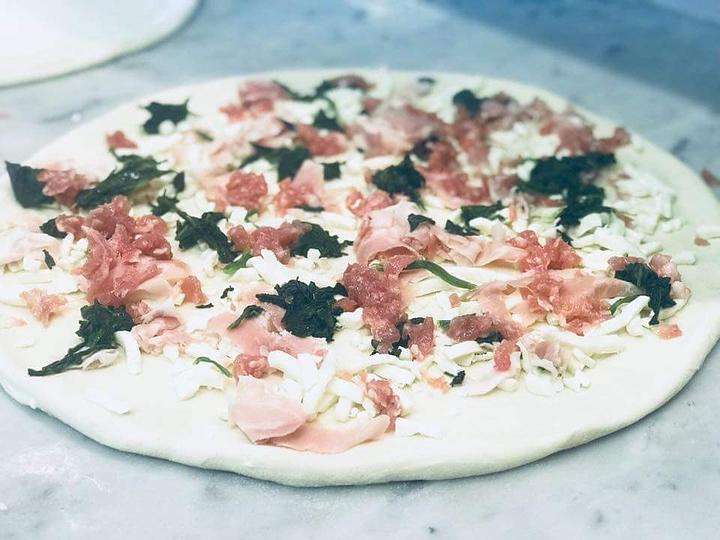Arugula: (525, 155, 606, 208), (282, 281, 341, 337), (80, 154, 163, 188), (75, 303, 135, 349), (178, 210, 228, 262), (622, 264, 670, 314), (374, 160, 420, 191), (264, 141, 309, 170), (145, 99, 187, 129)
Ham: (465, 271, 627, 322), (233, 396, 389, 447), (354, 222, 518, 265), (88, 208, 167, 292), (342, 270, 406, 350), (212, 311, 317, 359), (221, 171, 323, 209), (431, 143, 494, 200), (399, 103, 485, 139), (234, 227, 309, 261), (231, 79, 281, 113)
Pizza: (0, 65, 720, 487)
